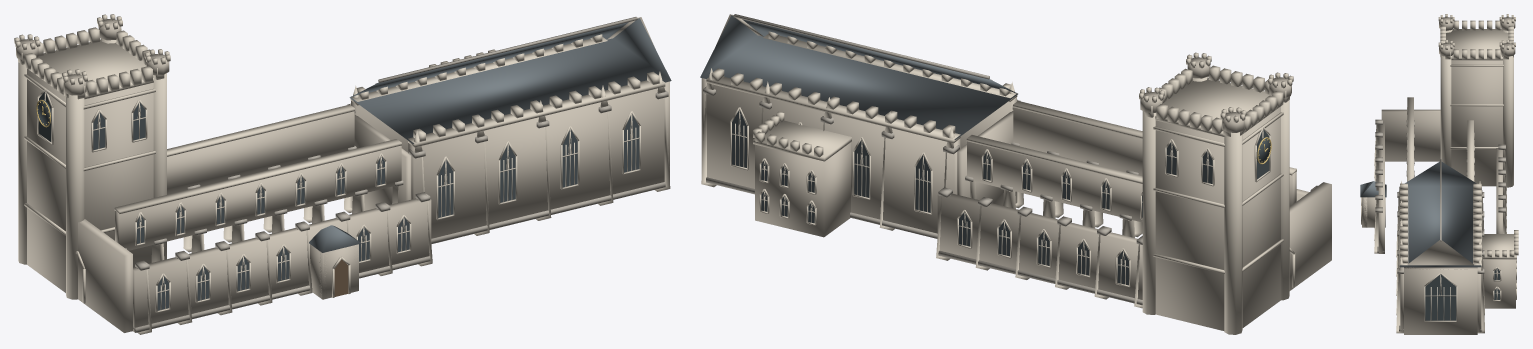
Rendered from dunkeld_cathedral_exterior.glb.
3 views of the same model, side by side, from view 1: azimuth 30°, elevation 25°; view 2: azimuth 150°, elevation 25°; view 3: azimuth 270°, elevation 25° (orthographic). The views are drawn at different scales.
Visible parts, largest first — view 1: Choir south wall, Choir slate gabled roof, West tower main shaft, Nave south aisle wall, Nave south clerestory wall, Nave north clerestory wall, Nave west front, Tower corner turret shaft 0-0, Tower parapet coping deck, Nave South clerestory wallhead coping, Choir south parapet band, Choir west transition wall (+16 smaller); view 2: West tower main shaft, Choir slate gabled roof, Choir north wall, Nave north aisle wall, Chapter house north block, Nave north clerestory wall, Nave south clerestory wall, Tower corner turret shaft 0-1, Nave west front, Tower corner turret shaft 1-1, Tower parapet coping deck, Choir north parapet band (+13 smaller); view 3: West tower main shaft, Choir slate gabled roof, Choir east end wall, Nave west front, Tower parapet coping deck, Chapter house north block, Tower corner turret shaft 1-1, Choir east five-light window_dark_glass, Tower corner turret shaft 1-0, Choir east gable, Nave south aisle wall, Chapter house parapet coping (+20 smaller).
Boxes of the visible parts, x1=… form: Choir south wall: x1=408, y1=87, x2=664, y2=238; Choir slate gabled roof: x1=349, y1=18, x2=671, y2=143; West tower main shaft: x1=27, y1=69, x2=153, y2=292; Nave south aisle wall: x1=133, y1=198, x2=431, y2=332; Nave south clerestory wall: x1=115, y1=145, x2=401, y2=250; Nave north clerestory wall: x1=167, y1=111, x2=354, y2=194; Nave west front: x1=78, y1=219, x2=132, y2=332; Tower corner turret shaft 0-0: x1=66, y1=94, x2=84, y2=299; Tower parapet coping deck: x1=29, y1=39, x2=153, y2=99; Nave South clerestory wallhead coping: x1=114, y1=139, x2=401, y2=213; Choir south parapet band: x1=408, y1=80, x2=665, y2=147; Choir west transition wall: x1=350, y1=114, x2=411, y2=210; West tower main shaft: x1=1155, y1=106, x2=1280, y2=330; Choir slate gabled roof: x1=700, y1=15, x2=1017, y2=139; Choir north wall: x1=707, y1=83, x2=960, y2=233; Nave north aisle wall: x1=937, y1=193, x2=1142, y2=299; Chapter house north block: x1=755, y1=142, x2=850, y2=237; Nave north clerestory wall: x1=967, y1=141, x2=1142, y2=222; Nave south clerestory wall: x1=1013, y1=107, x2=1296, y2=206; Tower corner turret shaft 0-1: x1=1224, y1=132, x2=1242, y2=334; Nave west front: x1=1289, y1=182, x2=1331, y2=290; Tower corner turret shaft 1-1: x1=1142, y1=111, x2=1156, y2=314; Tower parapet coping deck: x1=1155, y1=77, x2=1279, y2=136; Choir north parapet band: x1=706, y1=77, x2=960, y2=143; West tower main shaft: x1=1451, y1=60, x2=1502, y2=186; Choir slate gabled roof: x1=1400, y1=161, x2=1481, y2=267; Choir east end wall: x1=1404, y1=267, x2=1477, y2=334; Nave west front: x1=1381, y1=109, x2=1440, y2=161; Tower parapet coping deck: x1=1446, y1=29, x2=1508, y2=60; Chapter house north block: x1=1483, y1=259, x2=1515, y2=308; Tower corner turret shaft 1-1: x1=1501, y1=55, x2=1513, y2=187; Choir east five-light window_dark_glass: x1=1425, y1=274, x2=1456, y2=320; Tower corner turret shaft 1-0: x1=1440, y1=55, x2=1452, y2=167; Choir east gable: x1=1404, y1=240, x2=1473, y2=268; Nave south aisle wall: x1=1378, y1=122, x2=1384, y2=253; Chapter house parapet coping: x1=1482, y1=234, x2=1516, y2=259.
Size of the model in its own units: 75.68 by 27.88 by 28.16.
